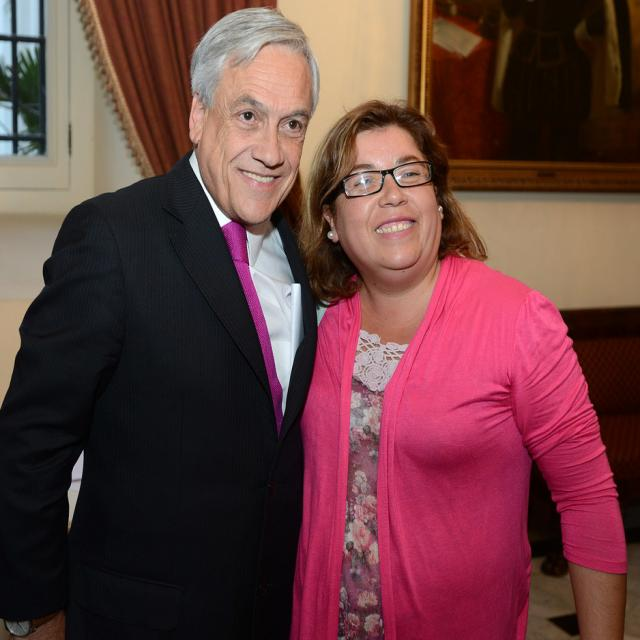Glasses: (332, 155, 450, 207)
